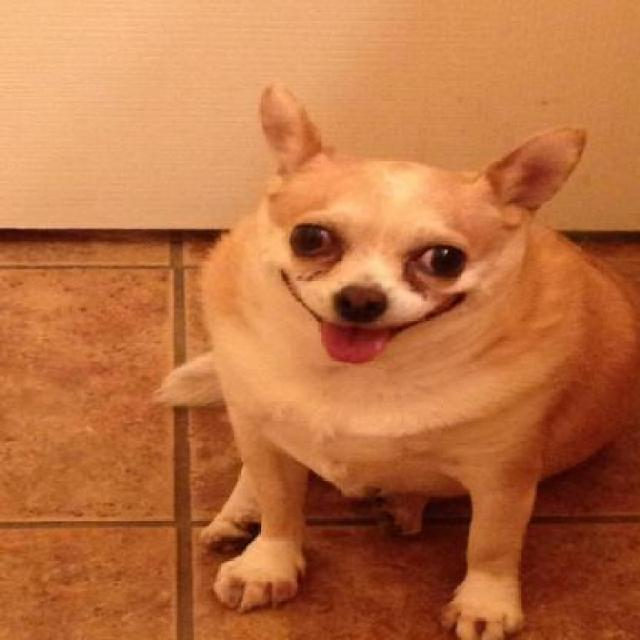Dog: (156, 70, 638, 638)
